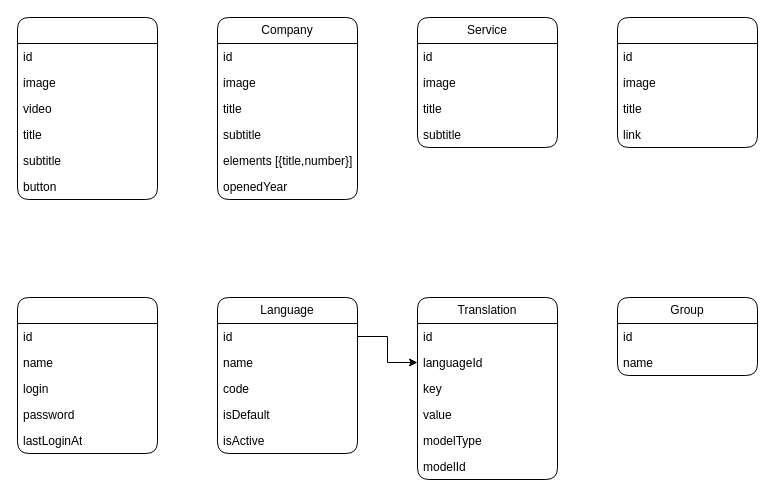
This 775x500 diagram has some shape labels left out. Each missing label, with the box of its shape:
Hero: (16, 16, 158, 200)
Partner: (616, 16, 758, 148)
User: (16, 296, 158, 454)
